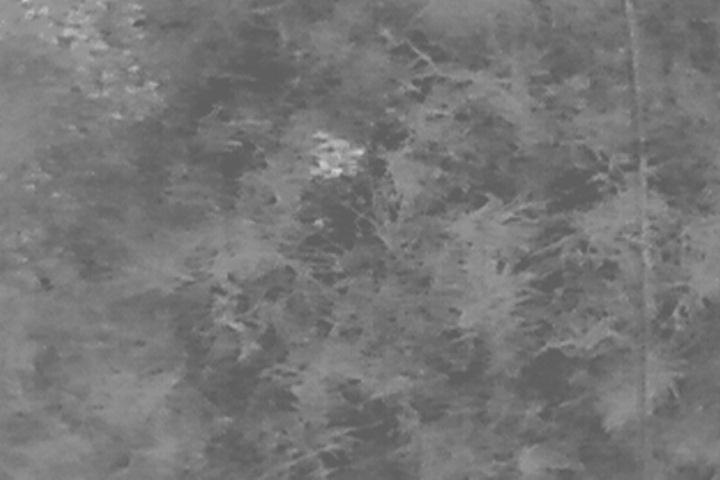landmine: (314, 136, 364, 178)
